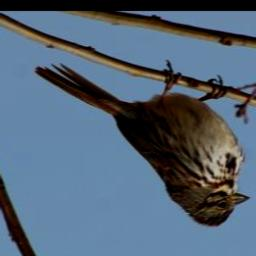Sparrow: (32, 61, 251, 229)
